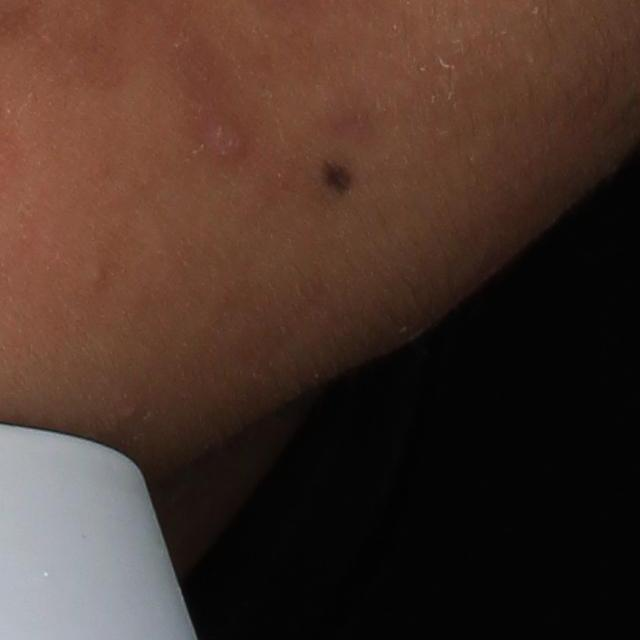nevus: (311, 156, 367, 202)
papule: (200, 115, 253, 159)
